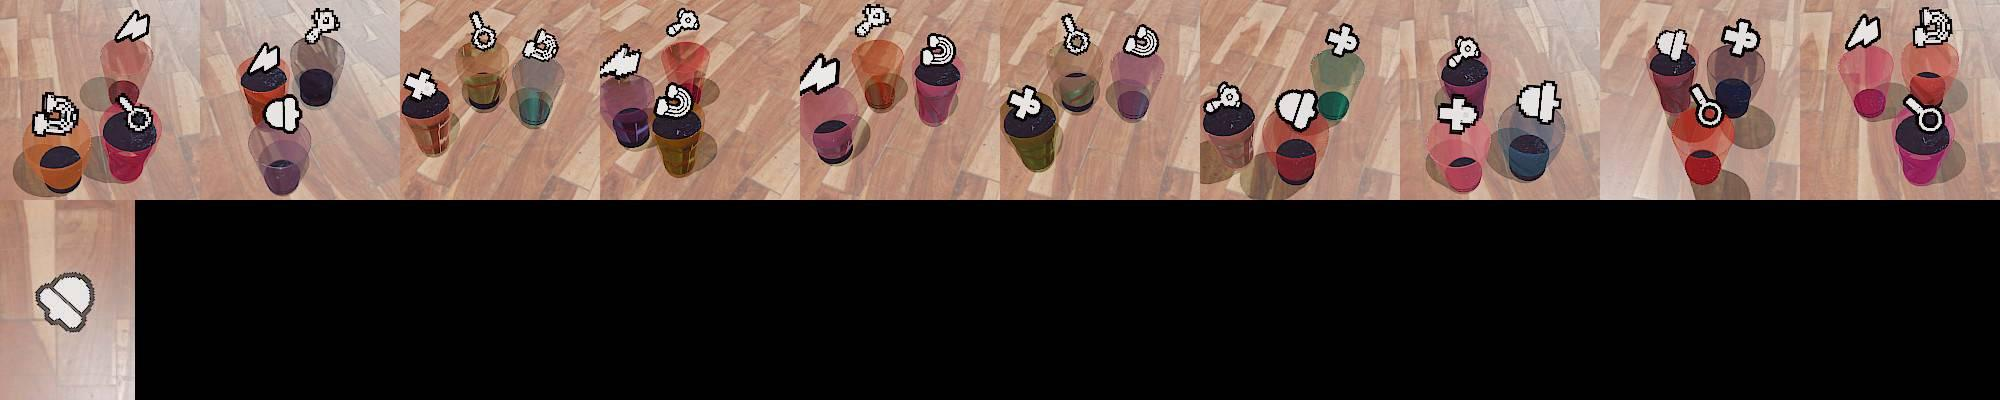icon: (33, 270, 96, 331), (31, 90, 79, 139), (1518, 79, 1562, 125), (1274, 88, 1321, 131), (797, 52, 841, 97), (1689, 82, 1727, 130), (597, 42, 644, 80), (1913, 6, 1955, 48), (1436, 93, 1480, 134), (111, 89, 151, 132), (1902, 93, 1945, 132), (263, 92, 304, 132), (1204, 78, 1244, 120), (1721, 18, 1761, 56), (653, 82, 694, 120), (1060, 11, 1093, 56), (520, 27, 560, 62), (403, 66, 441, 102), (1846, 14, 1881, 52), (305, 5, 341, 43), (467, 10, 497, 54), (1654, 28, 1691, 64), (1324, 22, 1360, 59), (245, 41, 281, 78), (114, 9, 152, 43), (1446, 36, 1482, 71), (1124, 23, 1159, 59), (920, 32, 957, 66), (855, 3, 892, 37), (1008, 83, 1042, 120), (666, 8, 700, 38)
